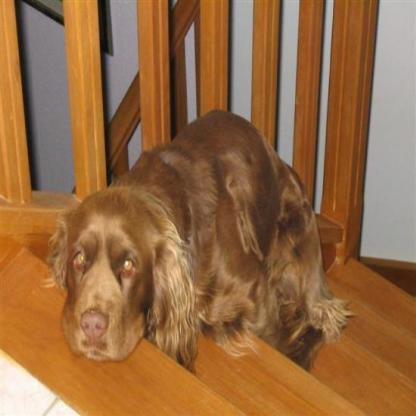Sussex_spaniel: (50, 107, 340, 355)
